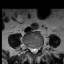CCS_normal: (33, 44, 35, 56)
LFS_normal: (38, 43, 41, 52)
LLS_normal: (35, 44, 38, 54)
RFS_normal: (27, 43, 30, 52)
RLS_normal: (30, 44, 33, 55)
